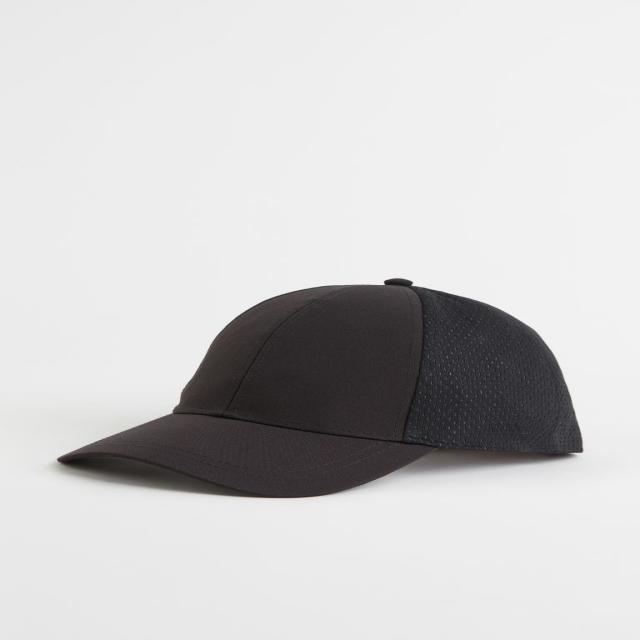Cap: (57, 278, 591, 534)
